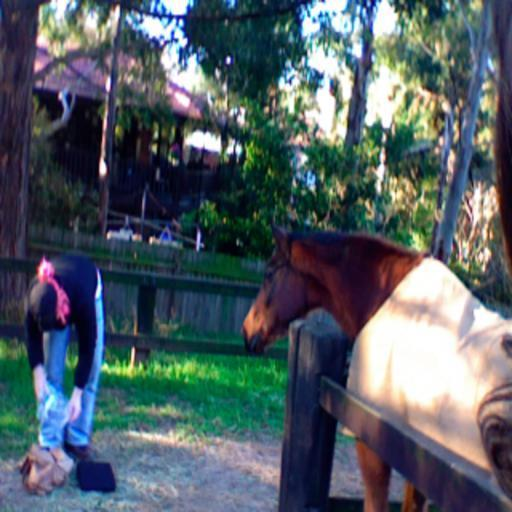horse: (240, 217, 510, 510)
